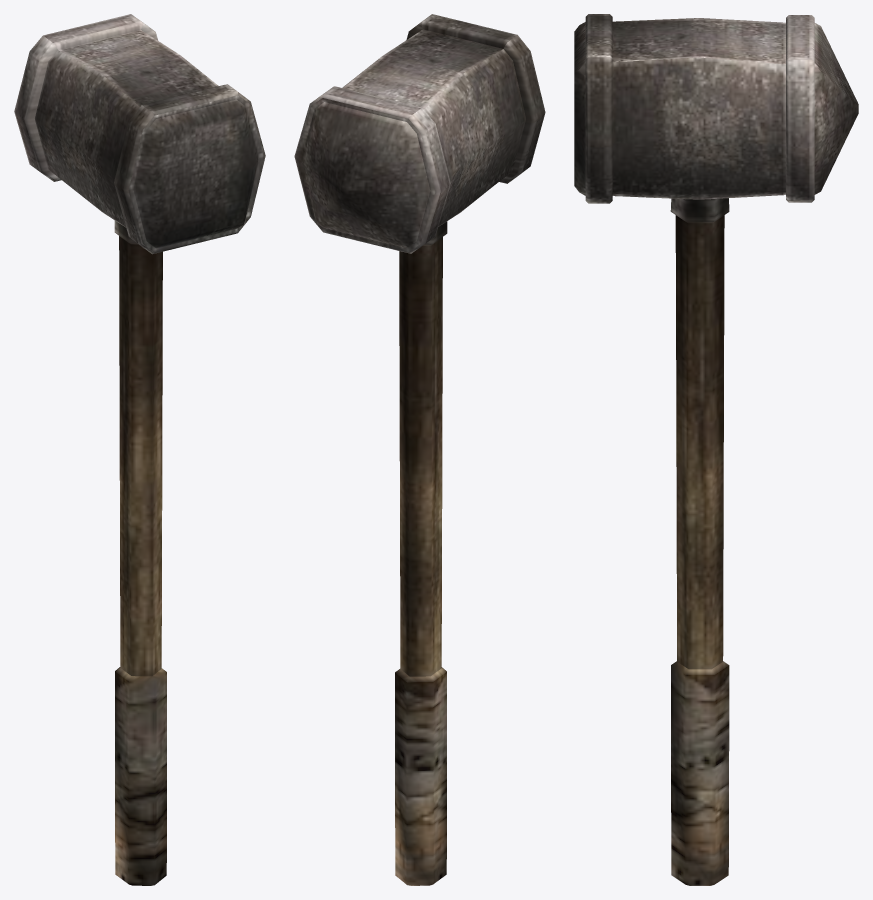
Rendered from weapons_hammer02.glb.
3 views of the same model, side by side, from view 1: azimuth 30°, elevation 25°; view 2: azimuth 150°, elevation 25°; view 3: azimuth 270°, elevation 25° (orthographic). The views are drawn at different scales.
Visible parts, largest first — view 1: hammer02; view 2: hammer02; view 3: hammer02.
Boxes of the visible parts, box(x1,y1,x2,y2) form: hammer02: box(14, 14, 265, 885); hammer02: box(294, 14, 545, 885); hammer02: box(574, 14, 858, 885).
Bounding box in the file's own units: 0.2099 × 1.13 × 0.3435.
1 material, 1 textured.
